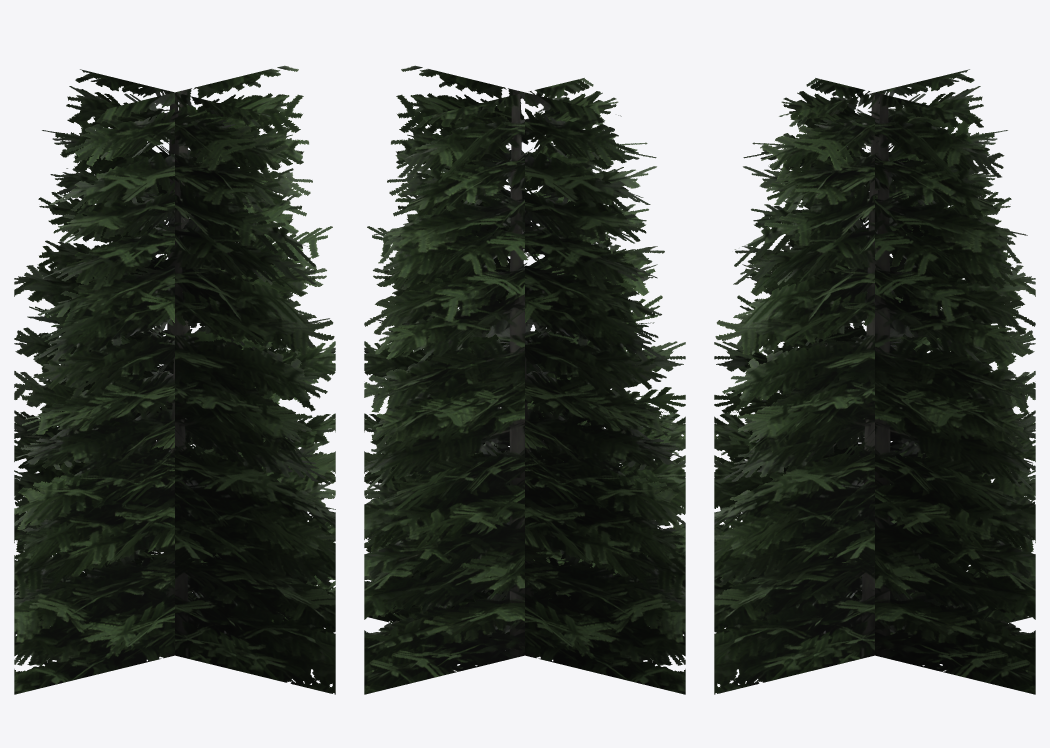
The model's file is jedle_stredni_daleko.glb.
The picture shows the model from 3 angles, left to right: view 1: azimuth 30°, elevation 25°; view 2: azimuth 150°, elevation 25°; view 3: azimuth 270°, elevation 25°; orthographic projection.
Parts seen in each view (by area): view 1: jedle_stredni_daleko; view 2: jedle_stredni_daleko; view 3: jedle_stredni_daleko.
Boxes of the visible parts, x1=… form: jedle_stredni_daleko: x1=14, y1=65, x2=335, y2=694; jedle_stredni_daleko: x1=364, y1=65, x2=685, y2=694; jedle_stredni_daleko: x1=714, y1=69, x2=1035, y2=694.
Size of the model in its own units: 8.49 by 14.22 by 7.36.
Materials: 3 (3 with a texture image).
